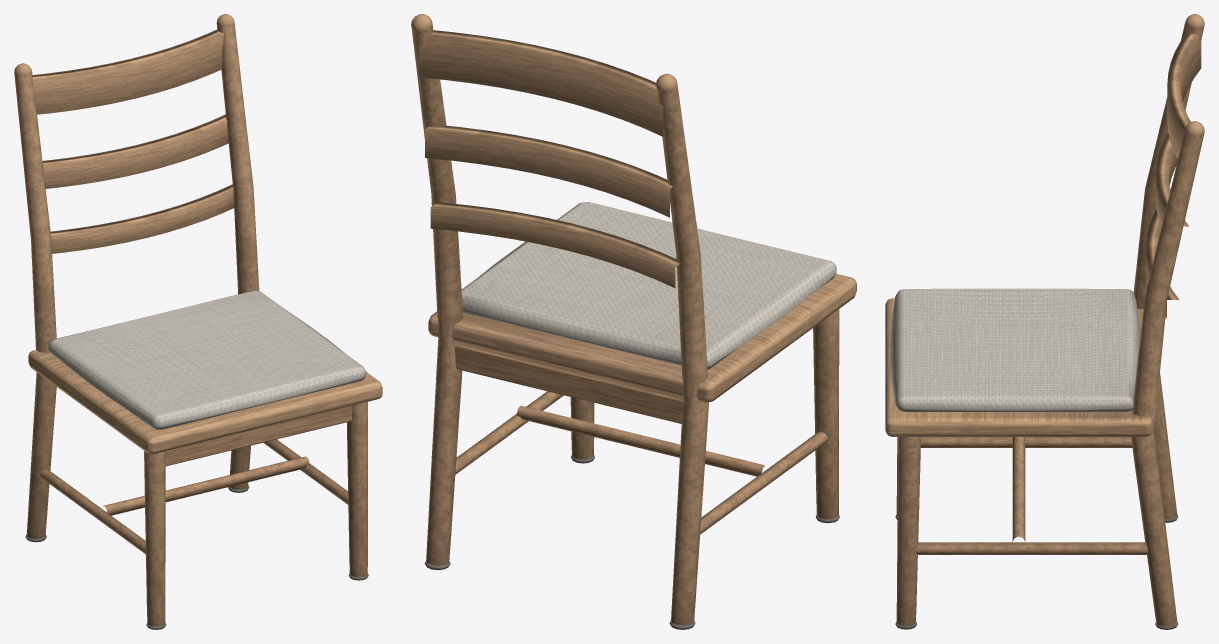
The model's file is int_cadeira_jantar.glb.
3 views of the same model, side by side, from view 1: azimuth 30°, elevation 25°; view 2: azimuth 150°, elevation 25°; view 3: azimuth 270°, elevation 25° (orthographic). The views are drawn at different scales.
Visible parts, largest first — view 1: cadeira; view 2: cadeira; view 3: cadeira.
Part boxes in pixels (x1=…): cadeira: x1=14, y1=14, x2=382, y2=629; cadeira: x1=411, y1=14, x2=856, y2=629; cadeira: x1=885, y1=14, x2=1204, y2=629.
Bounding box in the file's own units: 0.42 × 0.789 × 0.454.
Materials: 2 (2 with a texture image).
